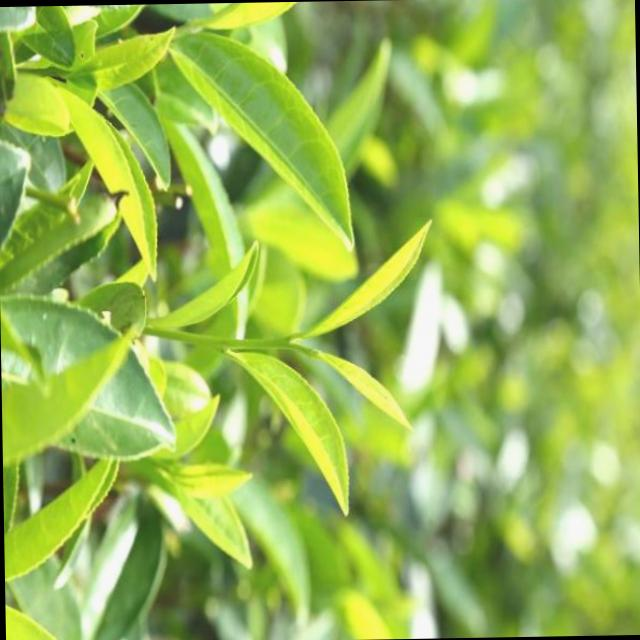Stem: (216, 337, 232, 350)
